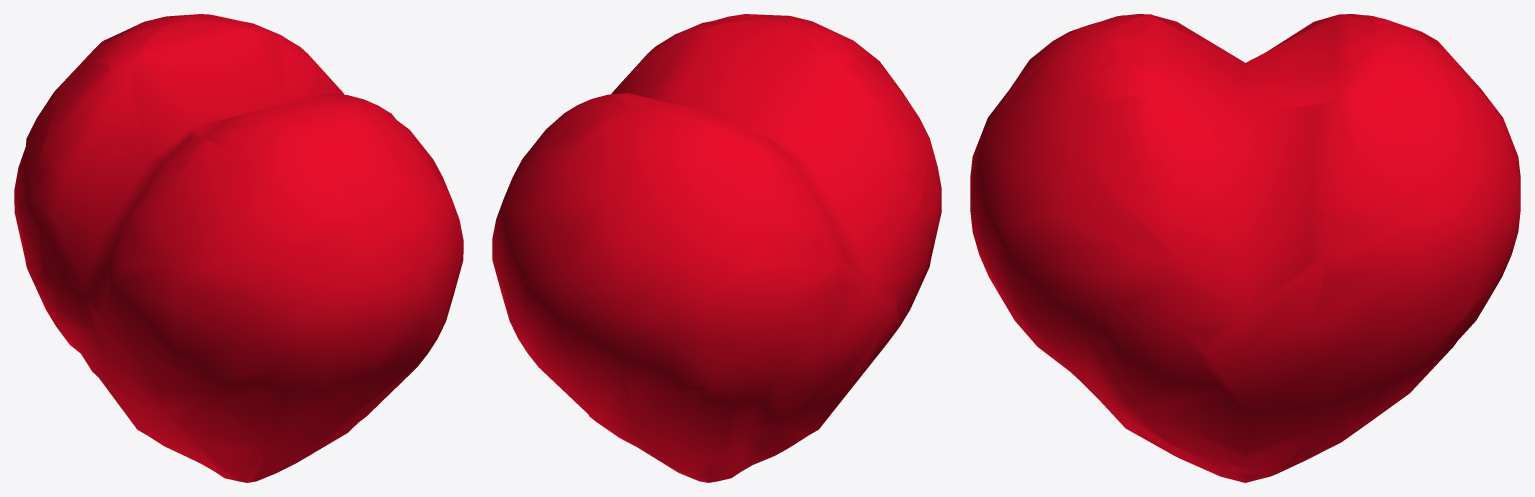
The model's file is Heart.fbx.
3 views of the same model, side by side, from view 1: azimuth 30°, elevation 25°; view 2: azimuth 150°, elevation 25°; view 3: azimuth 270°, elevation 25° (orthographic). The views are drawn at different scales.
Parts seen in each view (by area): view 1: HeartFlakes; view 2: HeartFlakes; view 3: HeartFlakes.
Boxes of the visible parts, left/top/right/bottom form: HeartFlakes: left=14, top=14, right=463, bottom=482; HeartFlakes: left=492, top=14, right=941, bottom=482; HeartFlakes: left=970, top=14, right=1520, bottom=482.
Bounding box in the file's own units: 1304 × 1574 × 1763.
